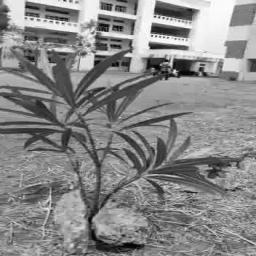OLEANDER: (2, 47, 236, 194), (5, 48, 108, 143)
